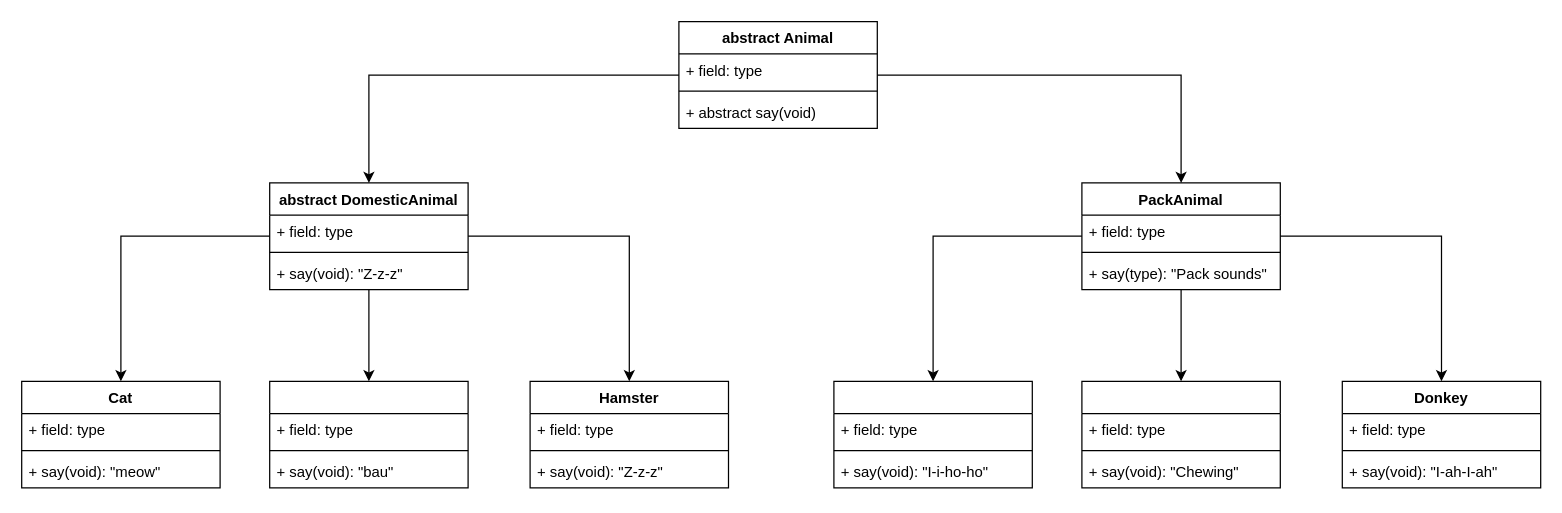
This 1562x513 diagram has some shape labels left out. Here are the shapes that lost their labels. From the top down, the box of each, then its label:
(268, 380, 468, 488): Dog
(833, 380, 1032, 488): Horse
(1081, 380, 1280, 488): Camal
